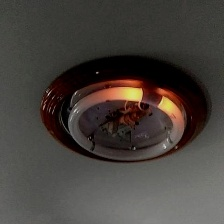light_bulb: (62, 83, 188, 168)
